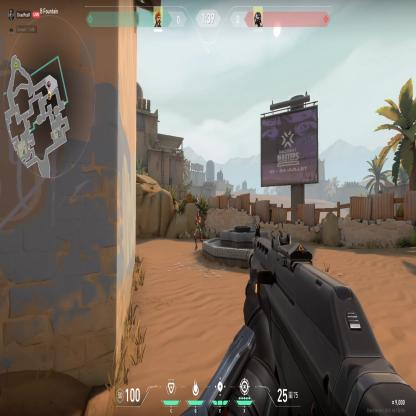enemy: (193, 210, 202, 252)
